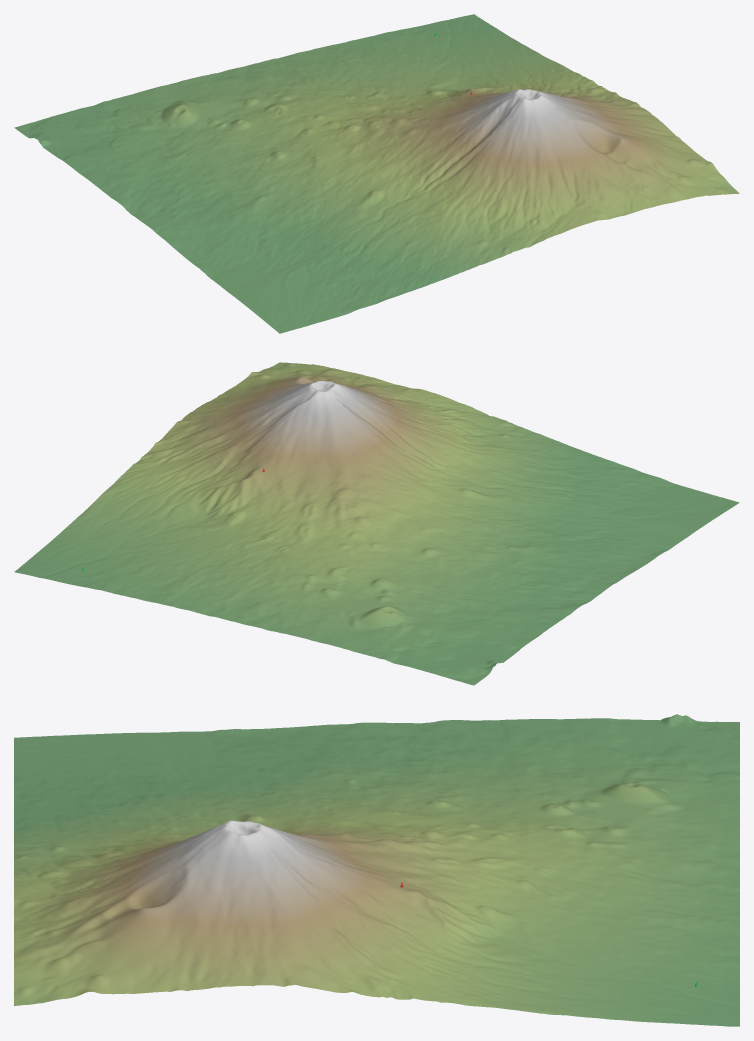
The model's file is fuji_course.glb.
3 renders of one model, top to bottom at view 1: azimuth 30°, elevation 25°; view 2: azimuth 150°, elevation 25°; view 3: azimuth 270°, elevation 25°, orthographic. The views are drawn at different scales.
Visible parts, largest first — view 1: terrain; view 2: terrain; view 3: terrain.
Part boxes in pixels (x1,y1,x2,y2): terrain: (14,14,739,333); terrain: (14,362,739,685); terrain: (14,714,739,1026).
Bounding box in the file's own units: 15940 × 3237 × 15953.
